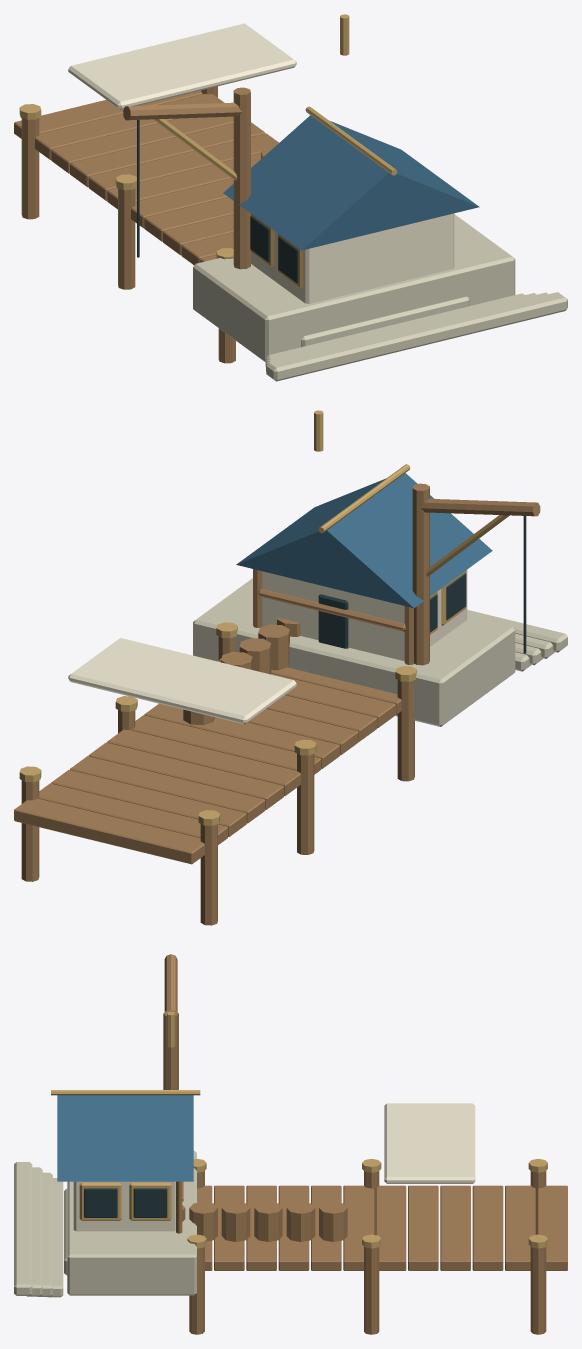
File: level_25.glb
3 views of the same model, one above another, from view 1: azimuth 30°, elevation 25°; view 2: azimuth 150°, elevation 25°; view 3: azimuth 270°, elevation 25° (orthographic). The views are drawn at different scales.
Visible parts, largest first — view 1: fishing_wharf — level 25; view 2: fishing_wharf — level 25; view 3: fishing_wharf — level 25.
Boxes of the visible parts, bbox=[...] form: fishing_wharf — level 25: bbox=[14, 14, 567, 381]; fishing_wharf — level 25: bbox=[14, 410, 567, 925]; fishing_wharf — level 25: bbox=[14, 954, 567, 1334].
Bounding box in the file's own units: 5.45 × 4.86 × 8.53.
